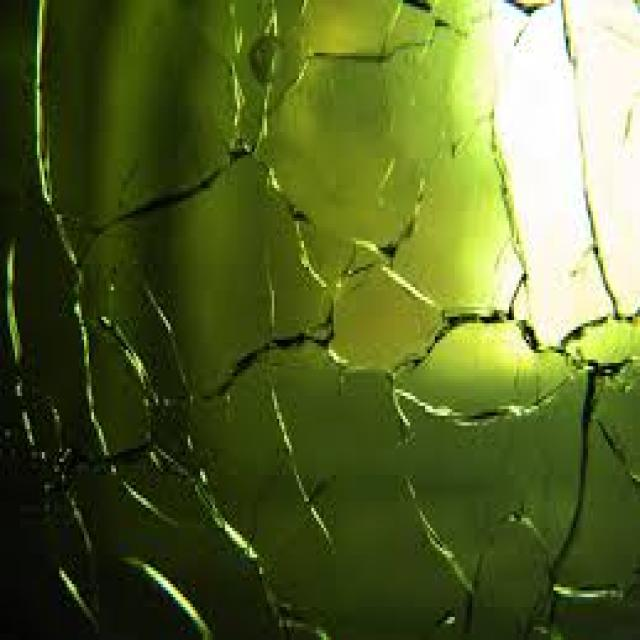glass: (0, 0, 638, 637), (185, 323, 467, 637), (390, 353, 635, 637), (74, 145, 334, 396), (35, 0, 274, 251), (255, 46, 504, 284), (67, 416, 324, 637), (492, 3, 613, 343), (546, 330, 638, 637), (556, 0, 638, 317), (388, 126, 516, 327), (396, 310, 564, 416), (326, 234, 442, 363), (79, 310, 148, 459), (260, 0, 312, 99), (561, 313, 635, 363)
